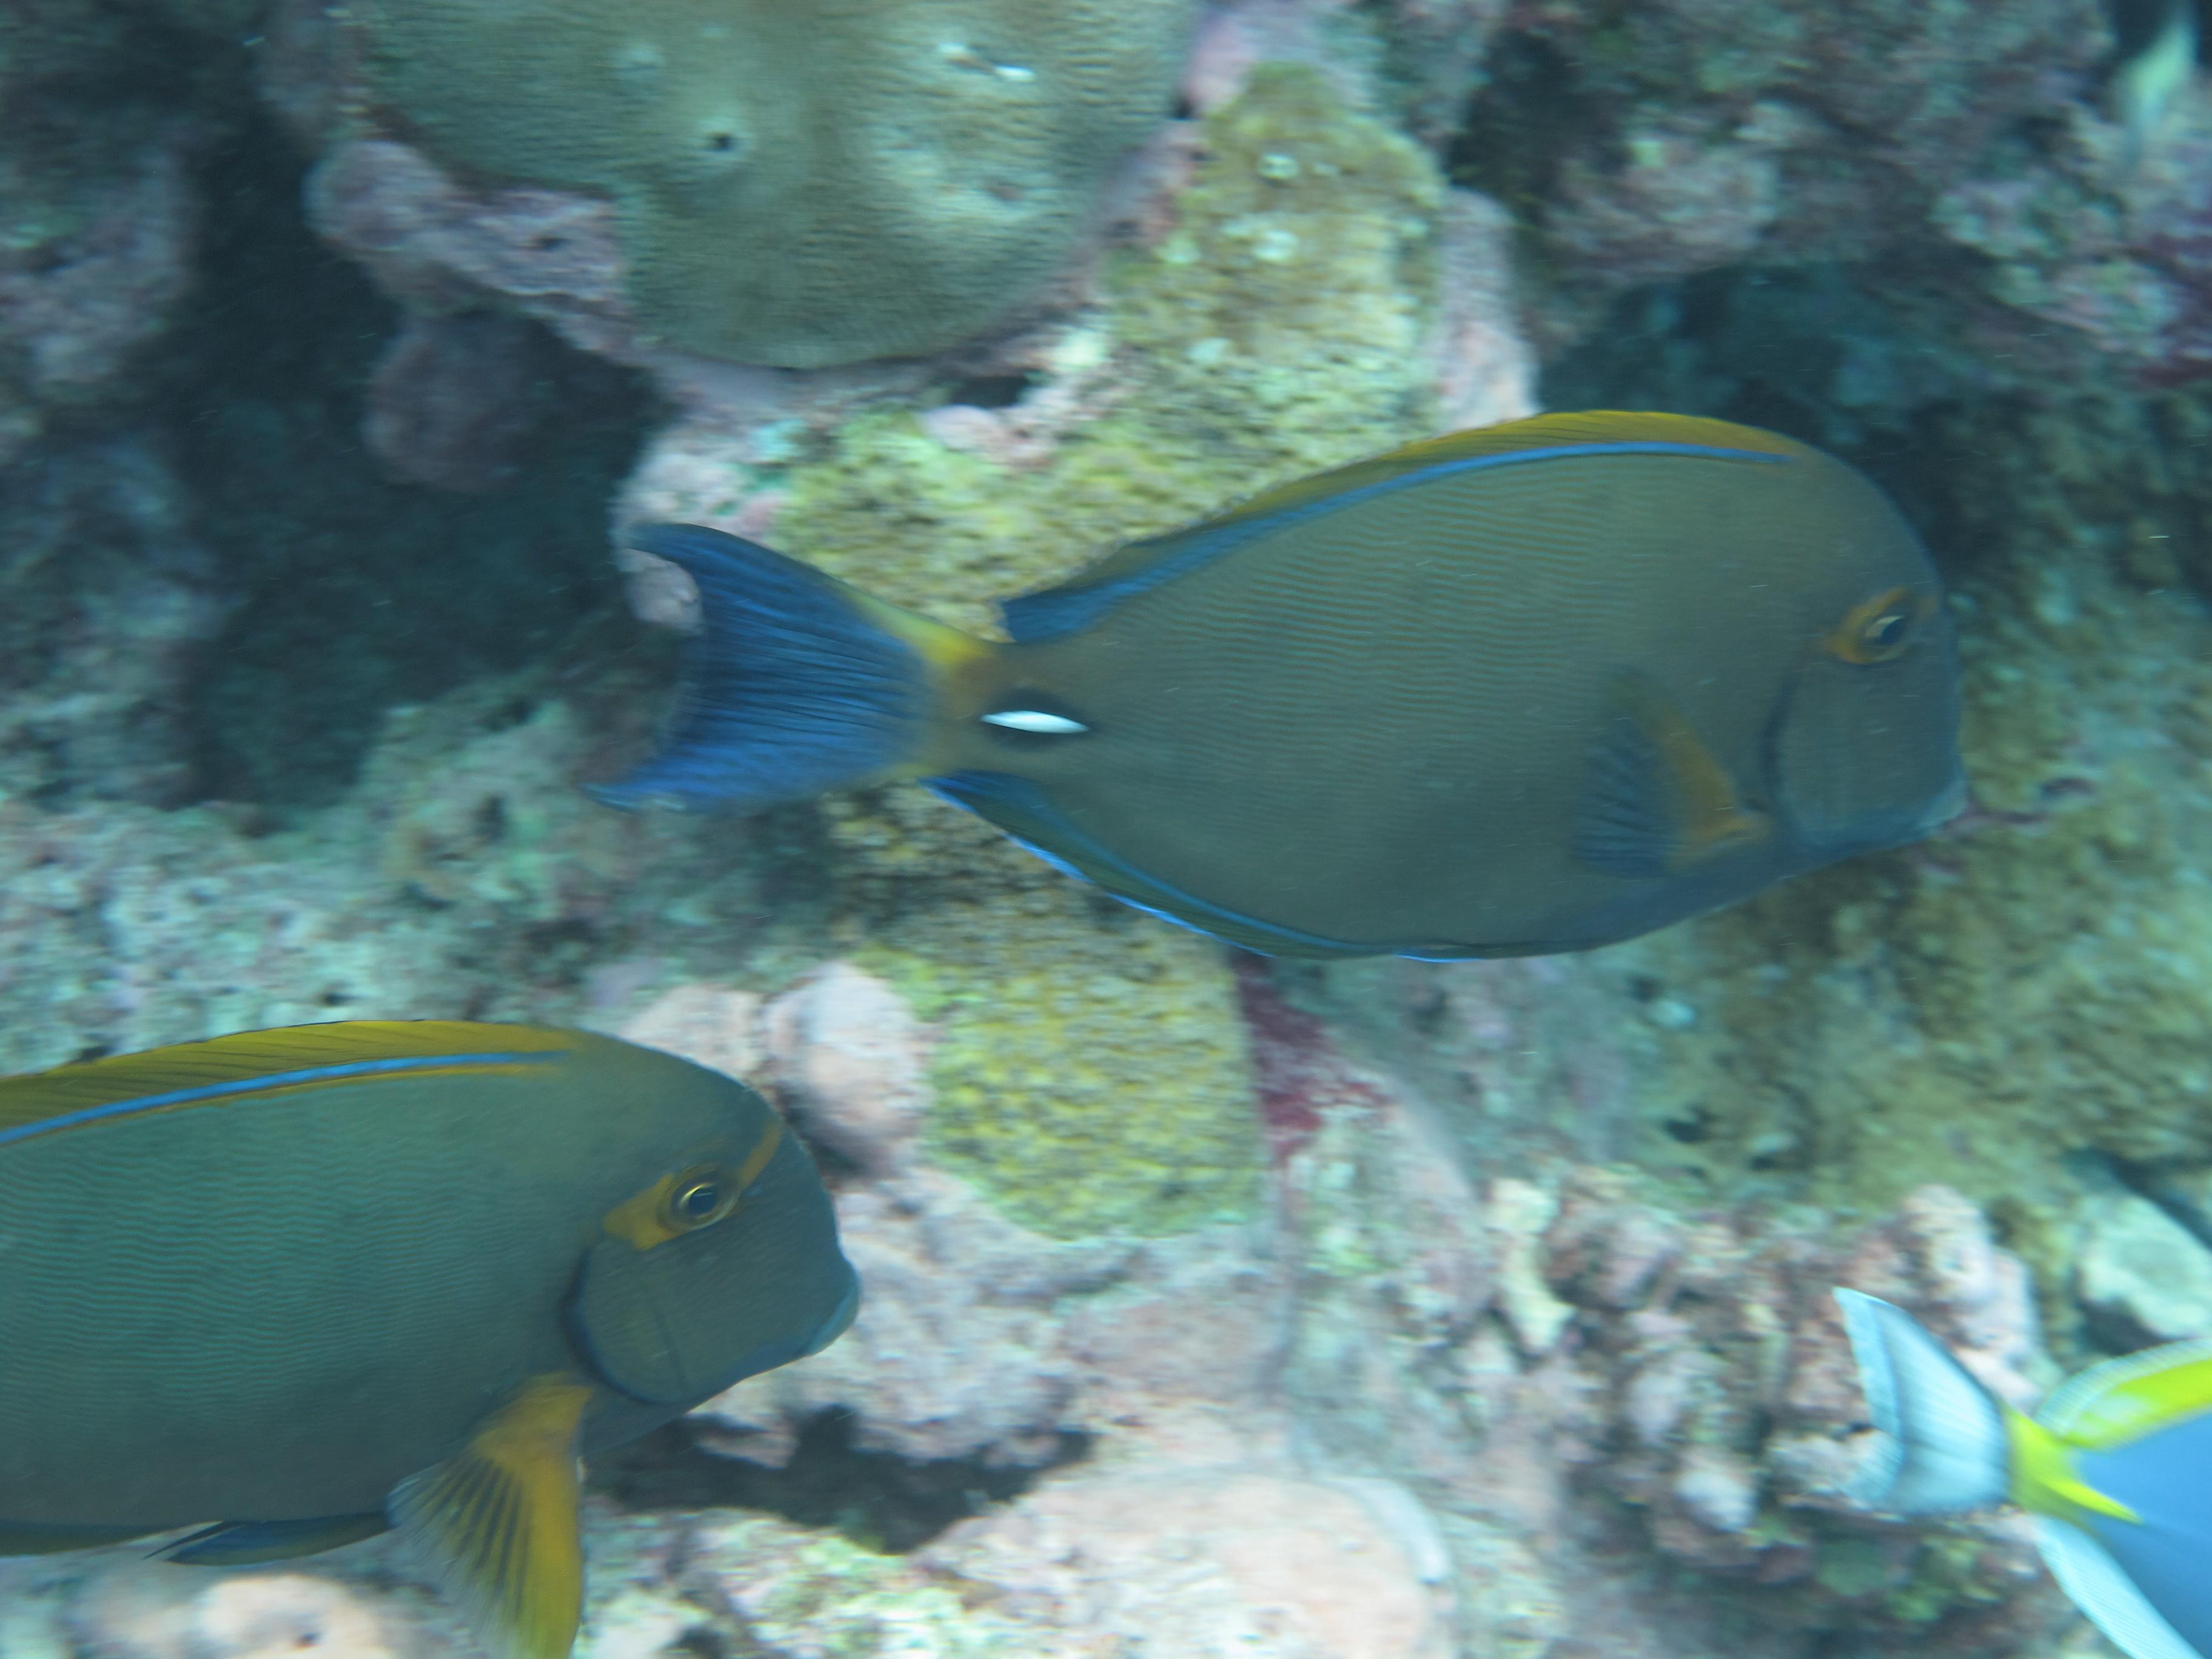Acanthurus dussumieri: (557, 333, 2104, 997), (0, 939, 925, 1649)
